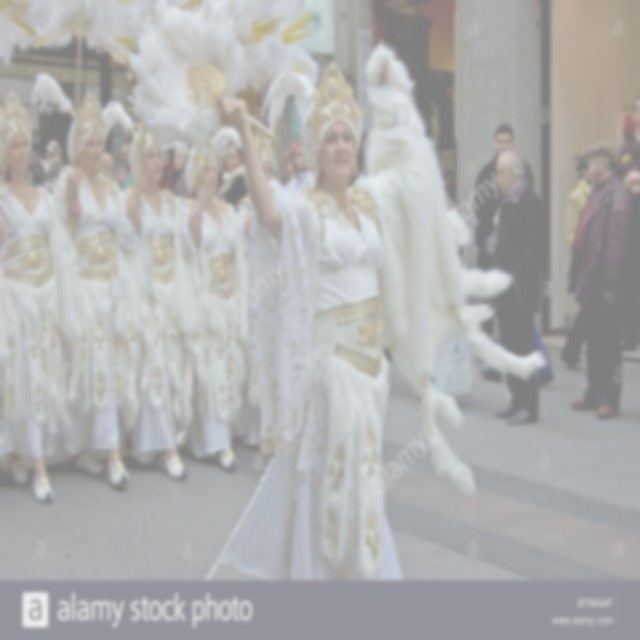pessoa: (215, 61, 422, 580), (46, 85, 144, 486), (0, 81, 80, 509), (114, 123, 204, 483), (182, 138, 250, 474), (566, 137, 636, 420), (482, 145, 550, 428), (478, 158, 556, 389), (236, 128, 282, 458), (472, 121, 529, 338), (559, 150, 596, 372), (616, 94, 640, 198), (221, 136, 249, 214), (285, 138, 316, 194), (222, 139, 245, 214), (163, 140, 190, 200), (42, 140, 64, 194), (156, 147, 178, 195), (97, 151, 123, 190), (28, 126, 44, 187), (116, 140, 132, 185), (282, 148, 296, 189)
